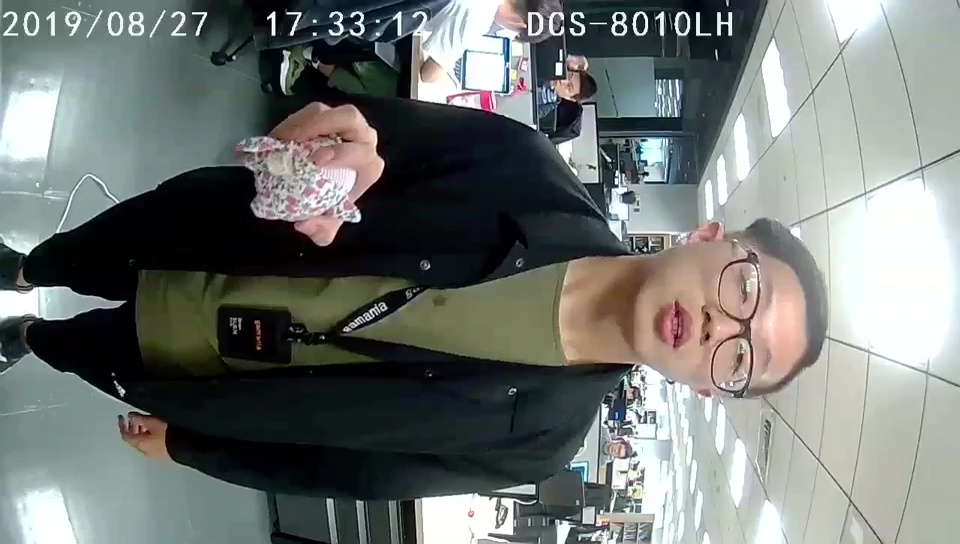pig: (245, 131, 362, 226)
